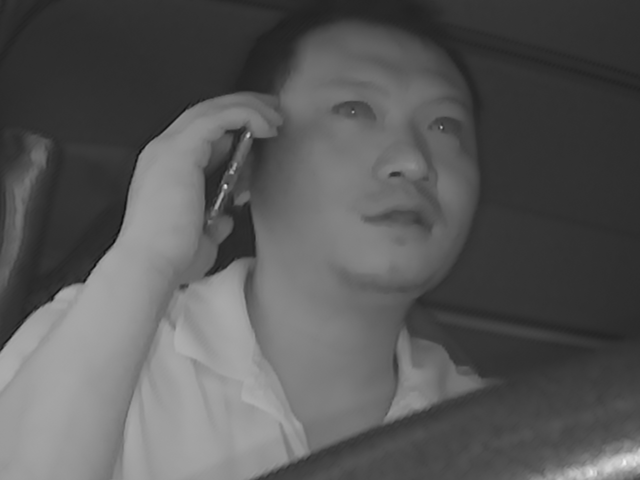hand: (124, 89, 243, 267)
